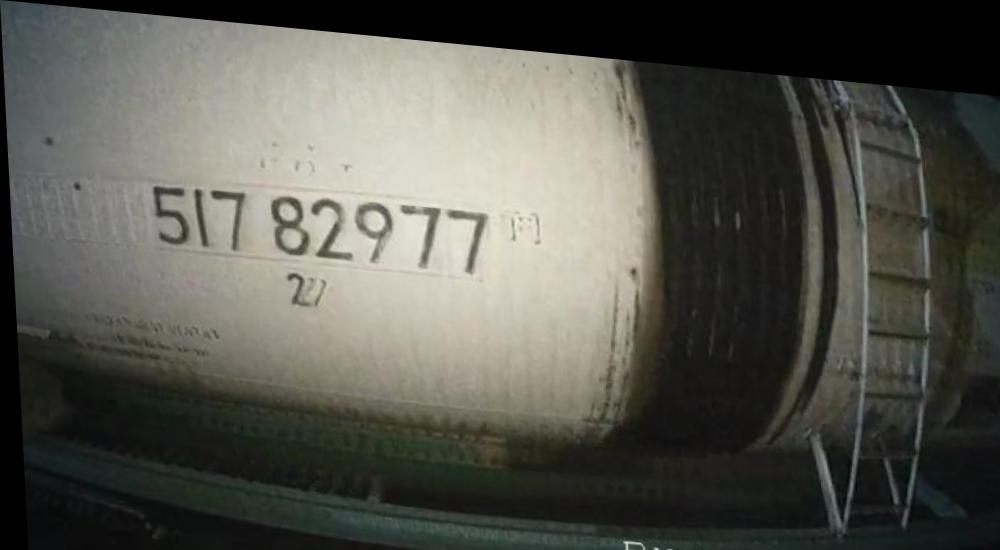Wagon-number: (146, 169, 494, 273)
